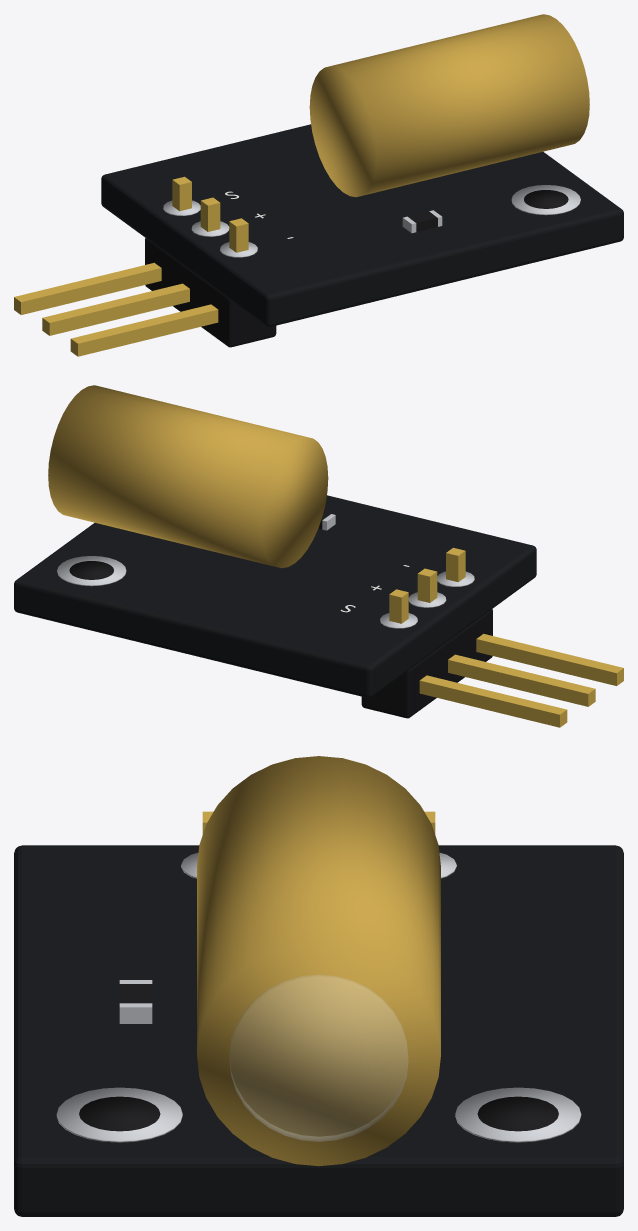
Rendered from laser-module.glb.
3 views of the same model, one above another, from view 1: azimuth 30°, elevation 25°; view 2: azimuth 150°, elevation 25°; view 3: azimuth 270°, elevation 25° (orthographic). The views are drawn at different scales.
Parts seen in each view (by area): view 1: pcb.028, part.082, header.028, pin_h.097, pin_h.096, pin_h.095, hole_ring.048, hole.048, pin_v.096, pin_v.097, pin_v.095; view 2: pcb.028, part.082, header.028, pin_h.095, pin_h.096, pin_h.097, hole_ring.047, hole.047, pin_v.096, pin_v.095, pin_v.097; view 3: pcb.028, part.082, laser_lens, hole_ring.047, hole_ring.048, hole.047, hole.048, smd_cap.079, smd.039.
Part boxes in pixels (x1,y1,x2,y2): pcb.028: (101,124,623,326); part.082: (309,14,589,197); header.028: (145,238,276,347); pin_h.097: (70,304,218,356); pin_h.096: (42,283,189,335); pin_h.095: (14,262,161,314); hole_ring.048: (511,185,580,215); hole.048: (524,190,568,208); pin_v.096: (200,197,220,231); pin_v.097: (229,218,248,252); pin_v.095: (172,176,191,211); pcb.028: (14,495,536,697); part.082: (48,385,328,568); header.028: (361,609,492,718); pin_h.095: (419,675,567,727); pin_h.096: (448,654,595,706); pin_h.097: (476,633,623,685); hole_ring.047: (57,556,126,586); hole.047: (69,561,113,579); pin_v.096: (417,568,437,602); pin_v.095: (389,589,408,623); pin_v.097: (446,547,465,582); pcb.028: (14,845,623,1216); part.082: (197,756,440,1166); laser_lens: (230,975,407,1141); hole_ring.047: (455,1087,581,1142); hole_ring.048: (56,1087,182,1142); hole.047: (477,1096,558,1131); hole.048: (79,1096,160,1131); smd_cap.079: (119,1003,152,1023); smd.039: (119,984,152,1003).
Size of the model in its own units: 0.0267 by 0.0103 by 0.015.
